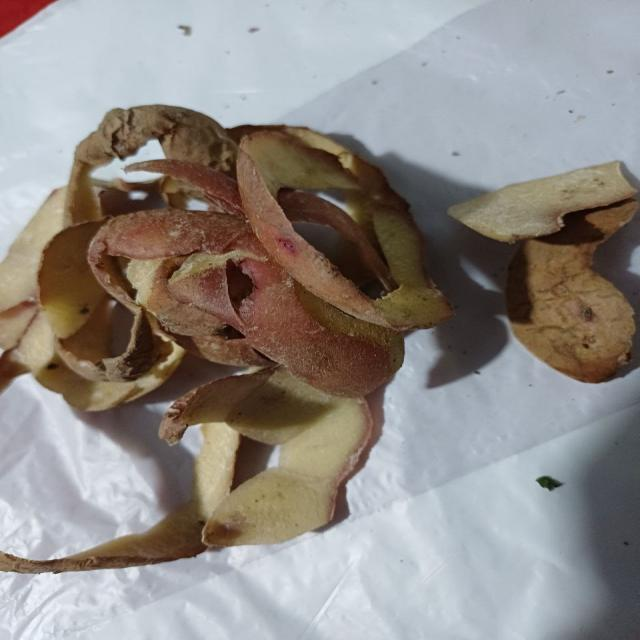organic: (2, 104, 640, 572)
